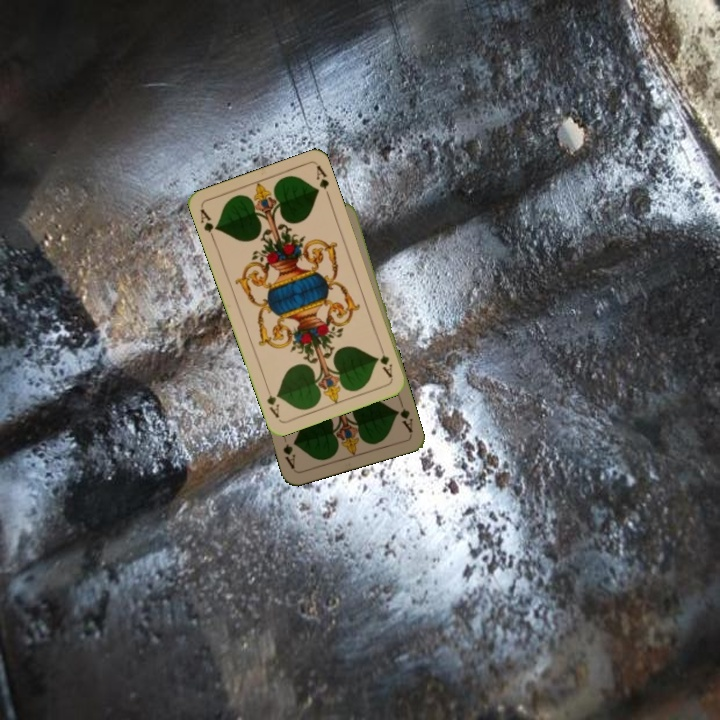GA: (196, 205, 221, 244), (392, 396, 415, 435), (374, 341, 395, 380)
